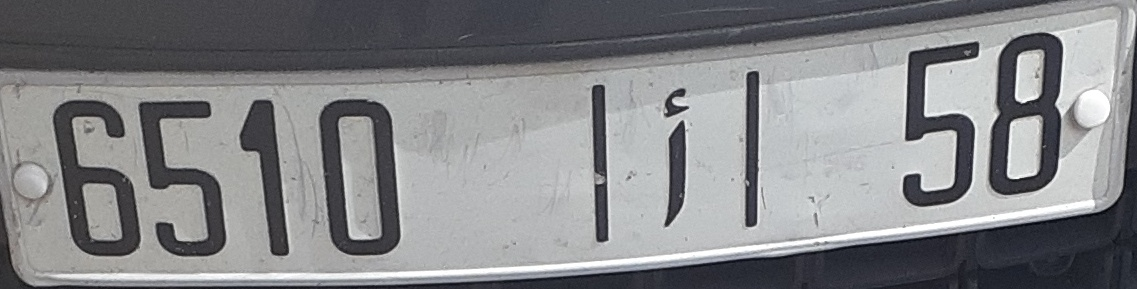0: (315, 93, 408, 259)
1: (233, 92, 295, 262)
5: (137, 85, 225, 258), (901, 39, 983, 208)
6: (48, 93, 141, 259)
8: (985, 31, 1063, 197)
a: (654, 81, 693, 232)
